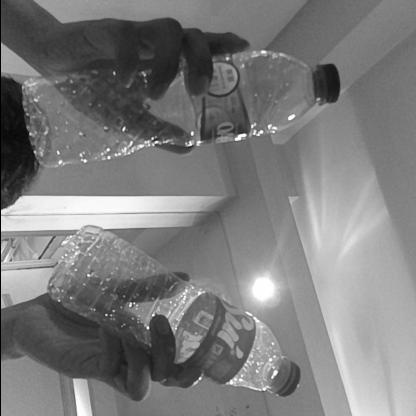plastic_bottles: (46, 226, 304, 402), (16, 49, 340, 167)
